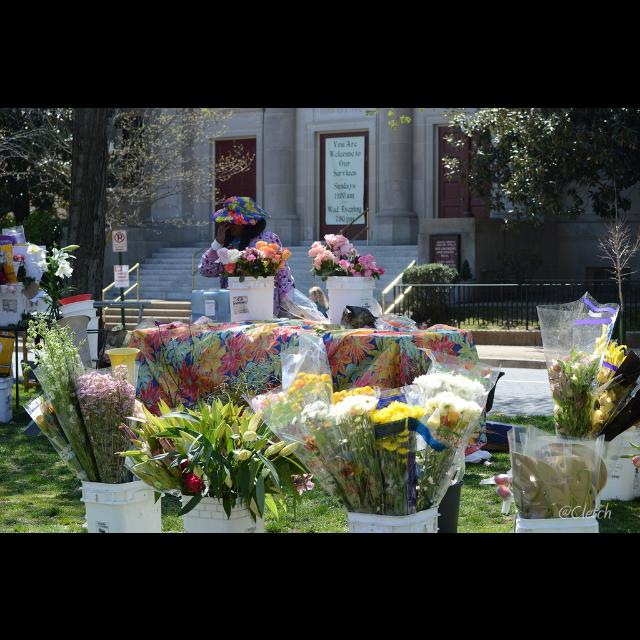Flower: (250, 369, 488, 517), (136, 420, 318, 502), (547, 319, 639, 447), (492, 448, 610, 520), (73, 358, 151, 422), (307, 229, 391, 277), (213, 238, 293, 278), (25, 241, 73, 281), (35, 396, 59, 432), (630, 452, 640, 466)
